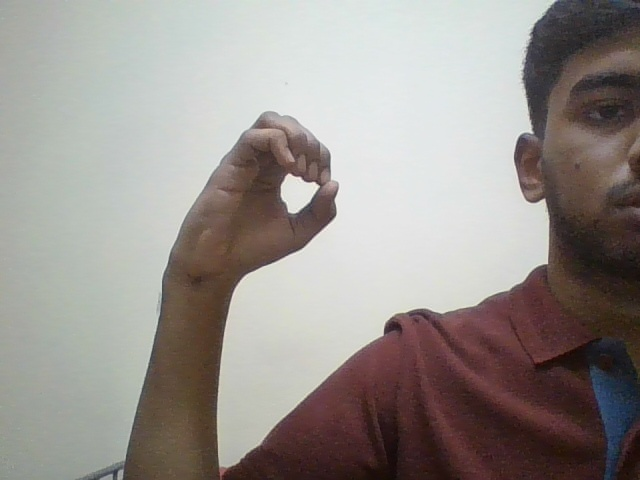O: (149, 105, 368, 291)
